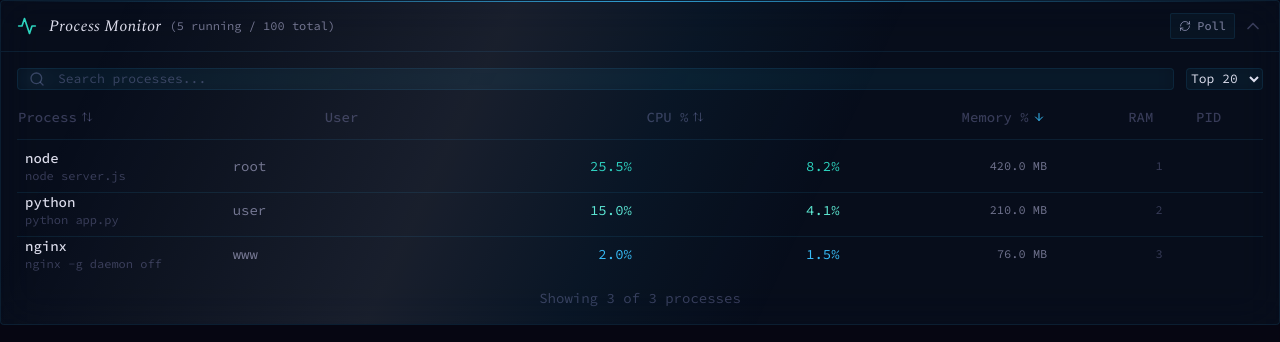
ProcessPanel › filters by user name
Type "root" into the field with placeholder "Search processes..." at (596, 79), box [17,68,1174,90]
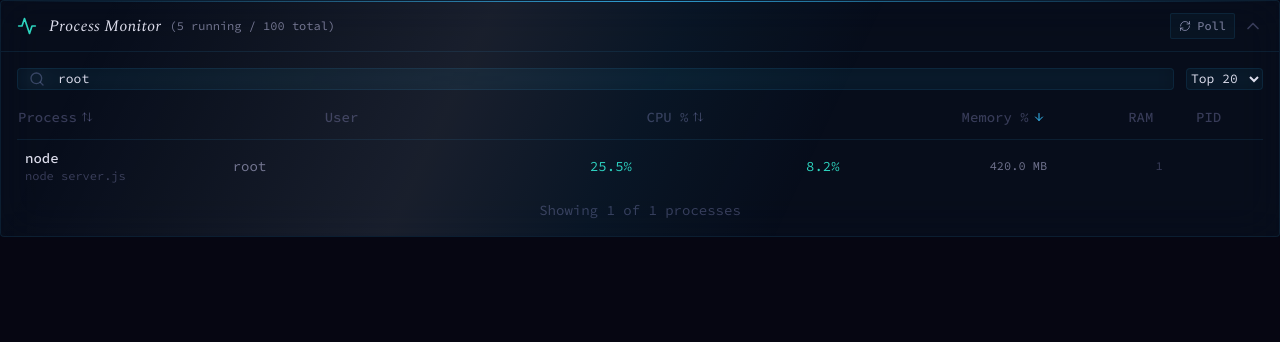
Expected: the text "node" is shown, [25,148,59,166]
Result: the text "python" is gone
